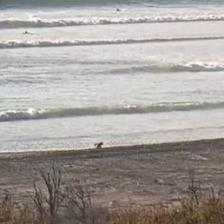surfer: (116, 7, 126, 12), (24, 31, 31, 34)
